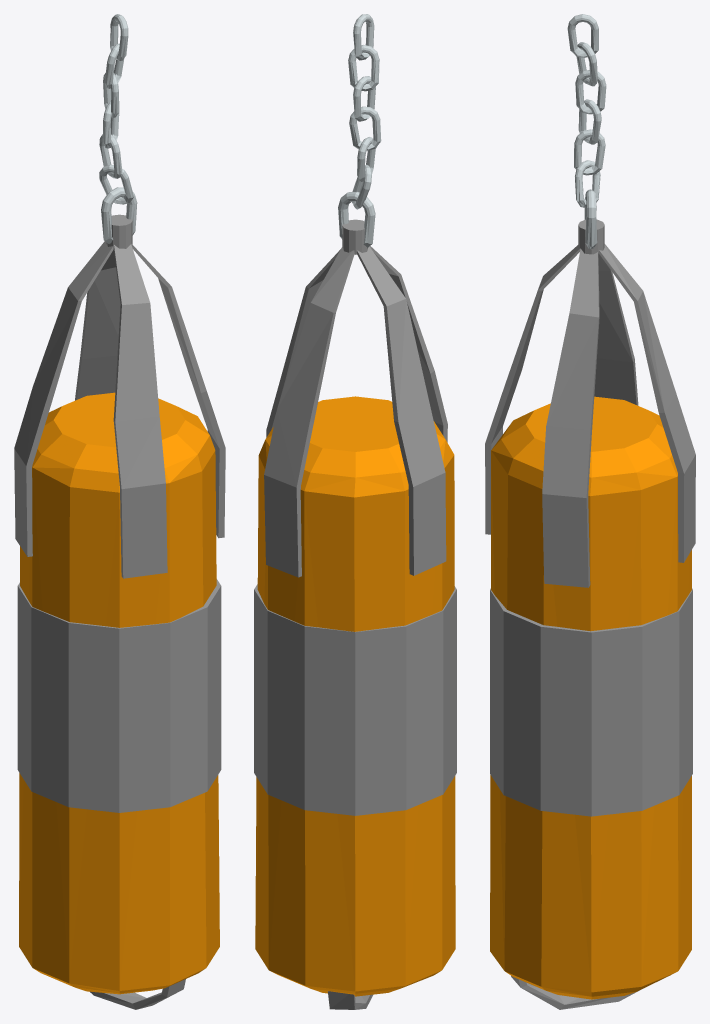
The model's file is Punching Bag.glb.
3 renders of one model, left to right at view 1: azimuth 30°, elevation 25°; view 2: azimuth 150°, elevation 25°; view 3: azimuth 270°, elevation 25°, orthographic.
Visible parts, largest first — view 1: Node; view 2: Node; view 3: Node.
Boxes of the visible parts, x1,y1,x2,y2 form: Node: [14, 14, 225, 1009]; Node: [254, 14, 456, 1009]; Node: [485, 14, 695, 1009].
Bounding box in the file's own units: 0.8753 × 4.5 × 0.8718.
